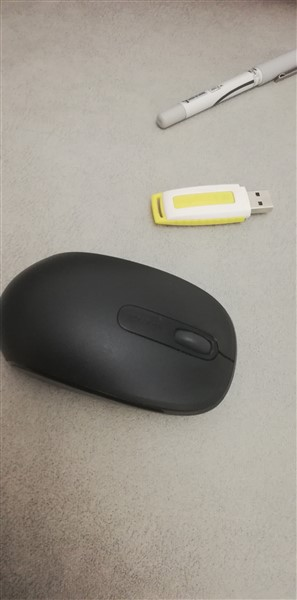flash disk: (149, 177, 275, 229)
mouse: (1, 250, 240, 417)
pilot kalem: (154, 42, 297, 136)
